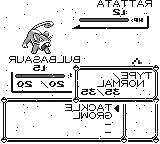seleccionado: (60, 103, 120, 113)
texto: (1, 97, 160, 144), (74, 65, 160, 102)
